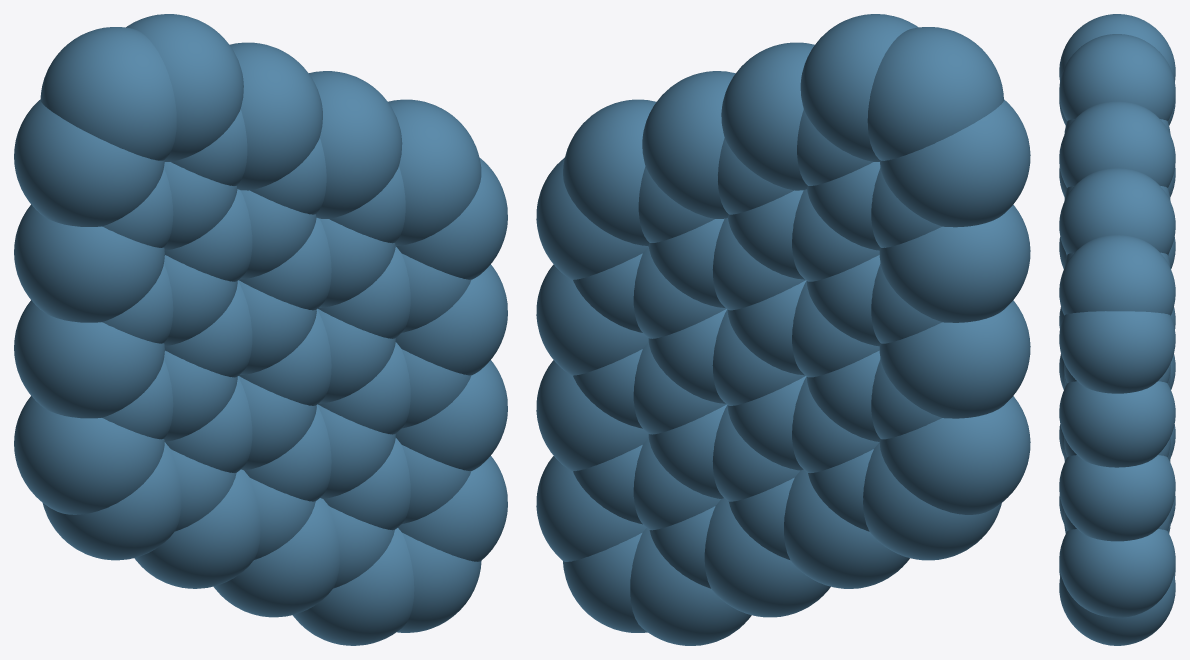
File: hammer.glb
3 views of the same model, side by side, from view 1: azimuth 30°, elevation 25°; view 2: azimuth 150°, elevation 25°; view 3: azimuth 270°, elevation 25° (orthographic). The views are drawn at different scales.
Visible parts, largest first — view 1: atoms; view 2: atoms; view 3: atoms.
Boxes of the visible parts, x1,y1,x2,y2 form: atoms: (14,14,507,645); atoms: (536,14,1030,645); atoms: (1059,14,1175,645).
Bounding box in the file's own units: 12.75 × 17.05 × 3.52.
